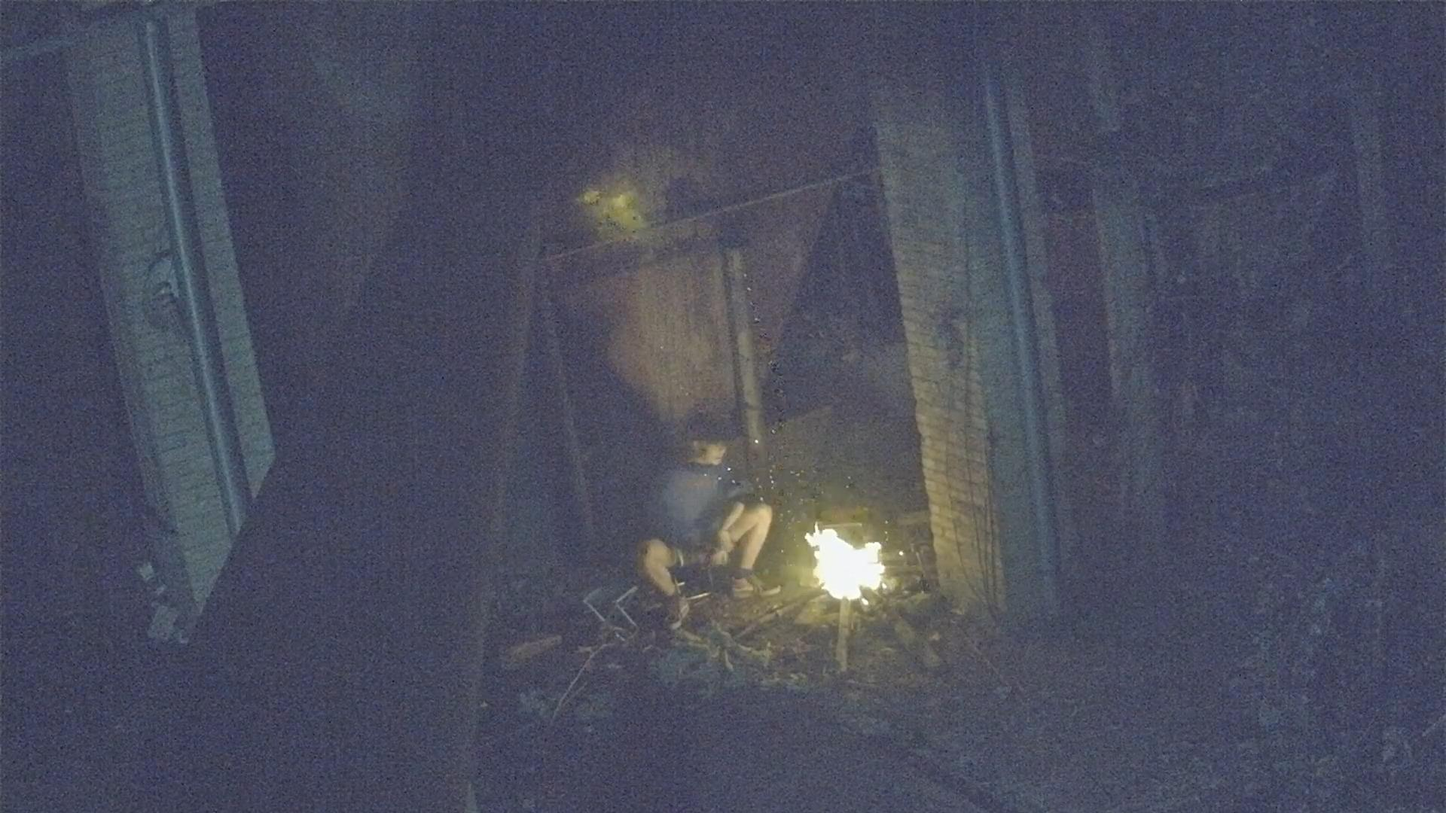fire: (805, 525, 885, 637)
